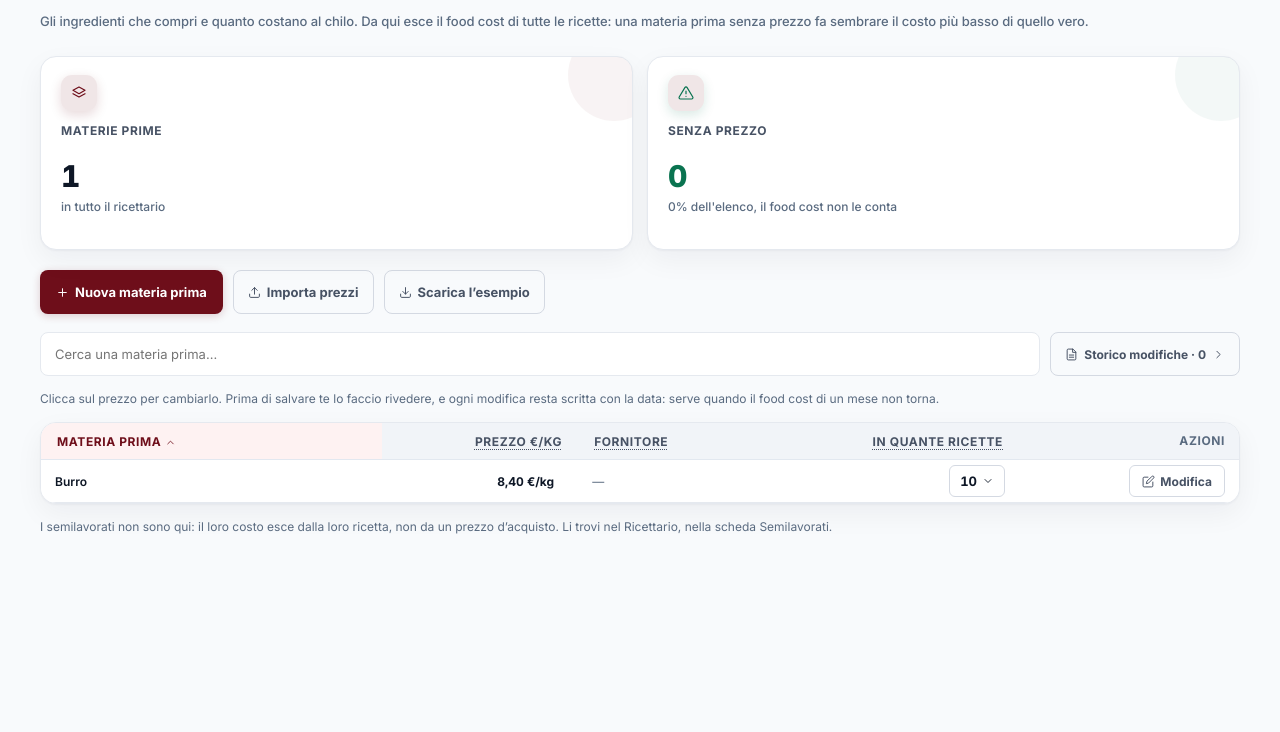
Test: «in quante ricette» si apre e si legge › aperto, mostra TUTTE le ricette e non solo le prime otto
Click the button "10": (977, 481) [949,465,1005,497]
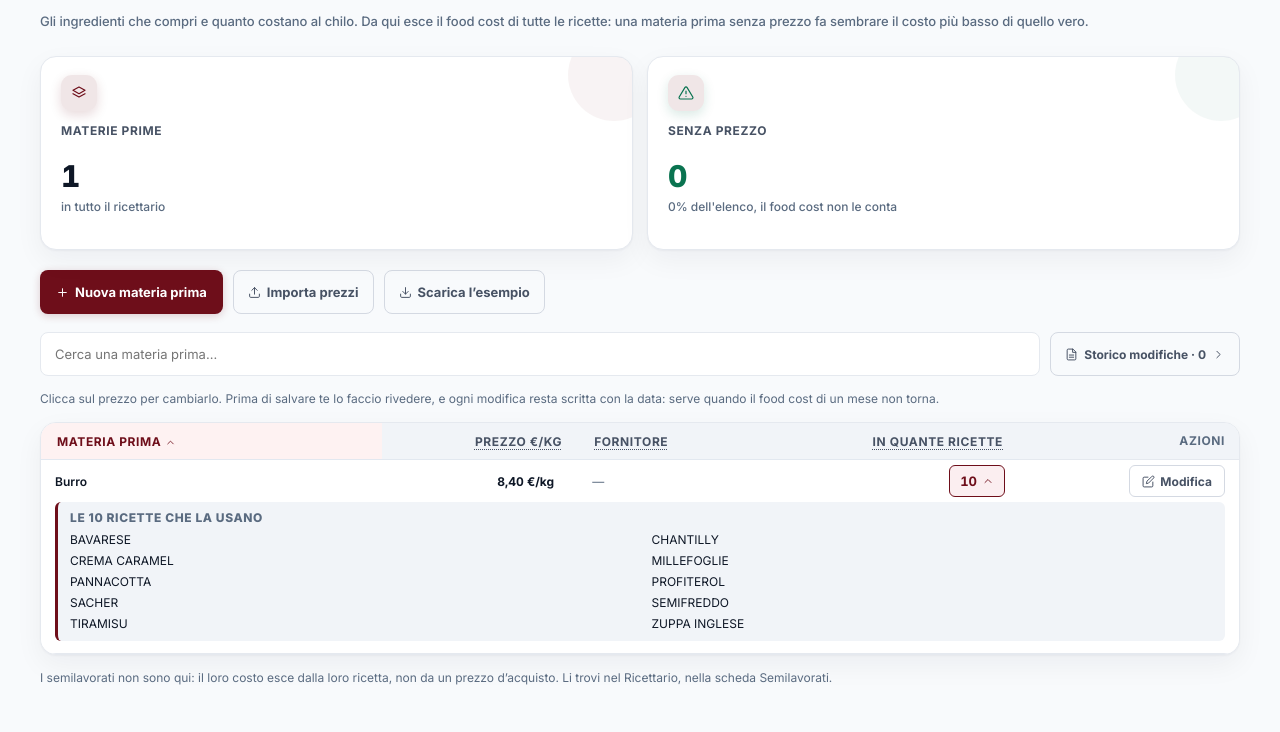
Result: the text "BAVARESE" is shown at [70,532,131,547]
Result: the text "CHANTILLY" is shown at [652,532,719,547]
Result: the text "SACHER" is shown at [70,595,118,610]
